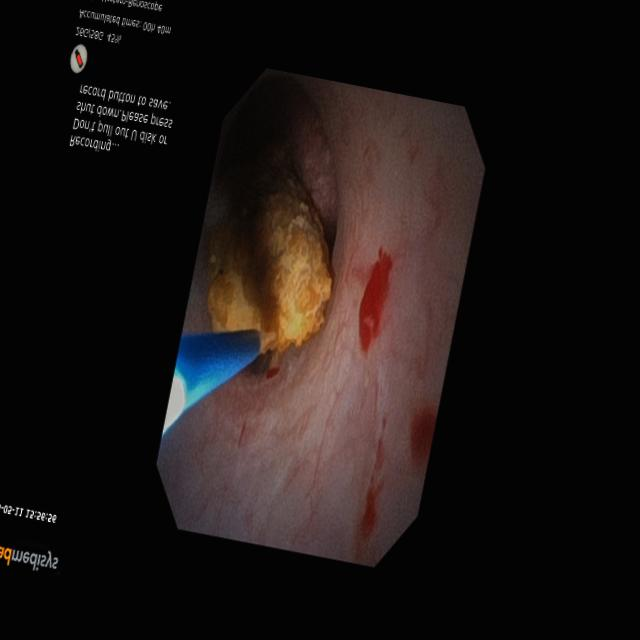laser-fibre: (261, 333, 277, 352)
stone-new: (206, 141, 332, 355)
